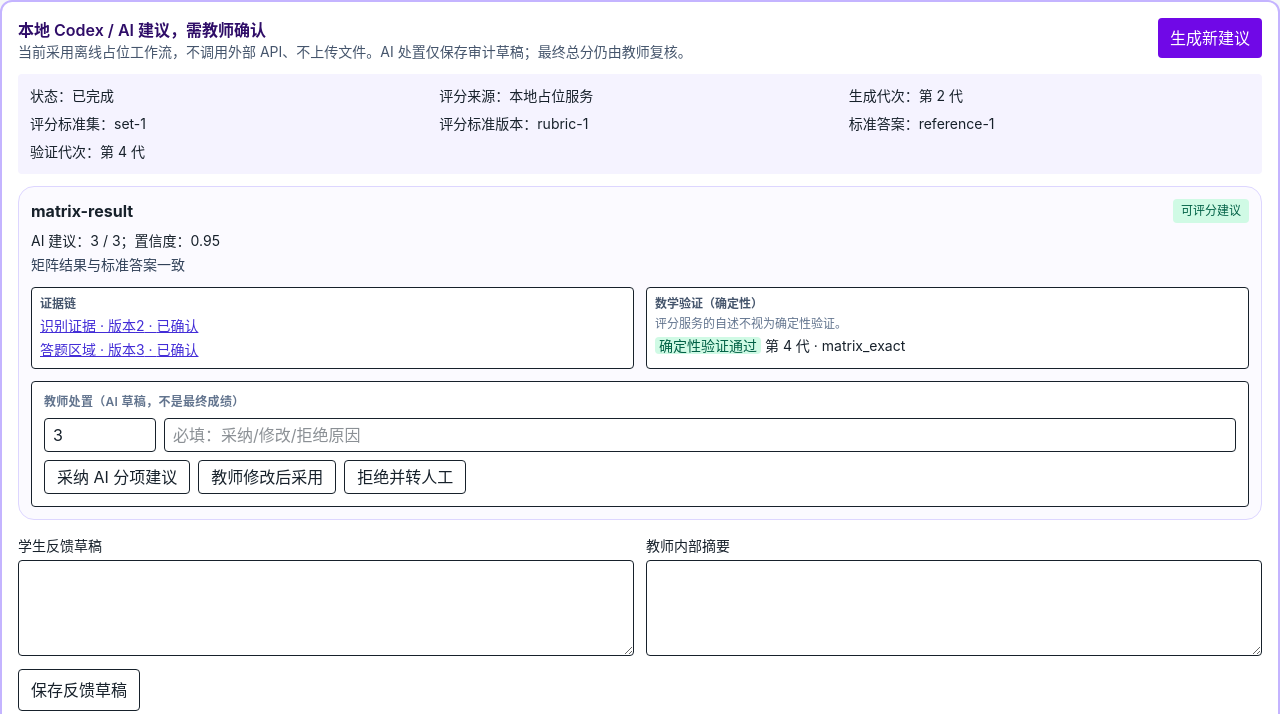
it: AIGradingReview › accepts only a current scored suggestion after an explicit reason
Expected: the button "采纳 AI 分项建议" is enabled, [44,460,190,494]
Type "教师核对原卷与验证结果后采纳" into the field named "matrix-result 修改原因".
click(700, 435); type("教师核对原卷与验证结果后采纳")  # box [164,418,1236,452]
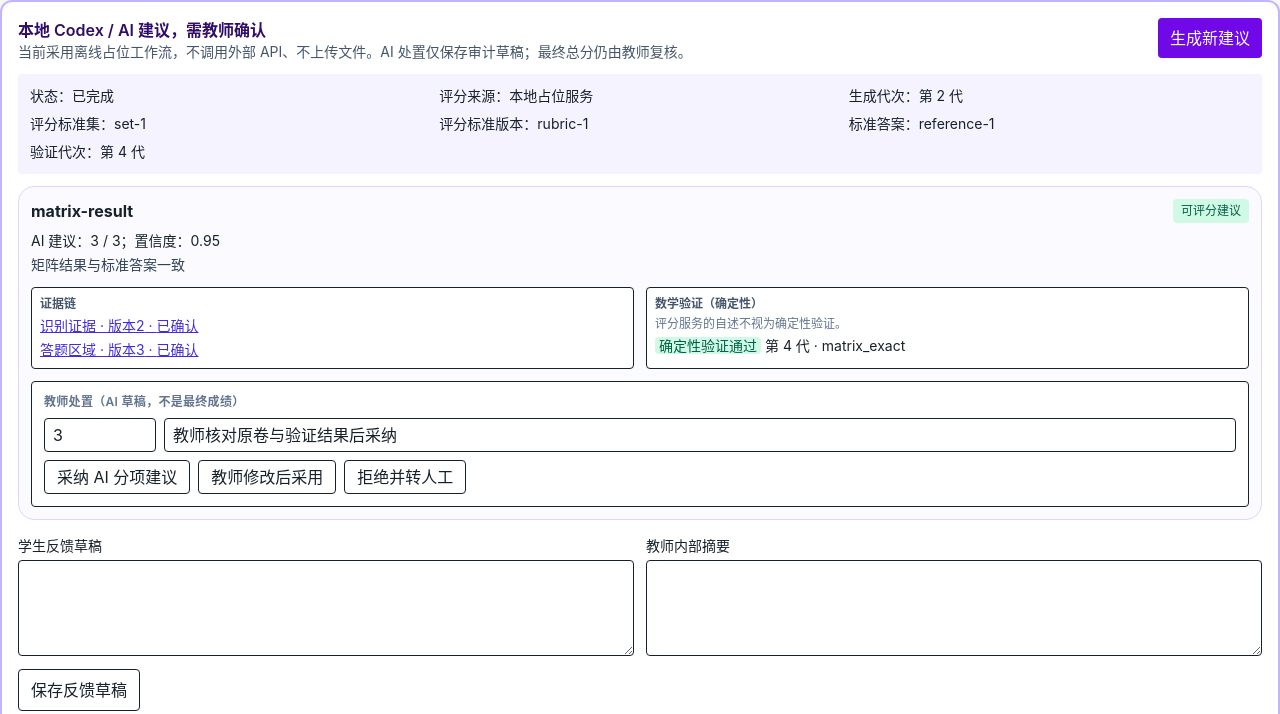
Click the button "采纳 AI 分项建议".
click(117, 477)  # box [44,460,190,494]
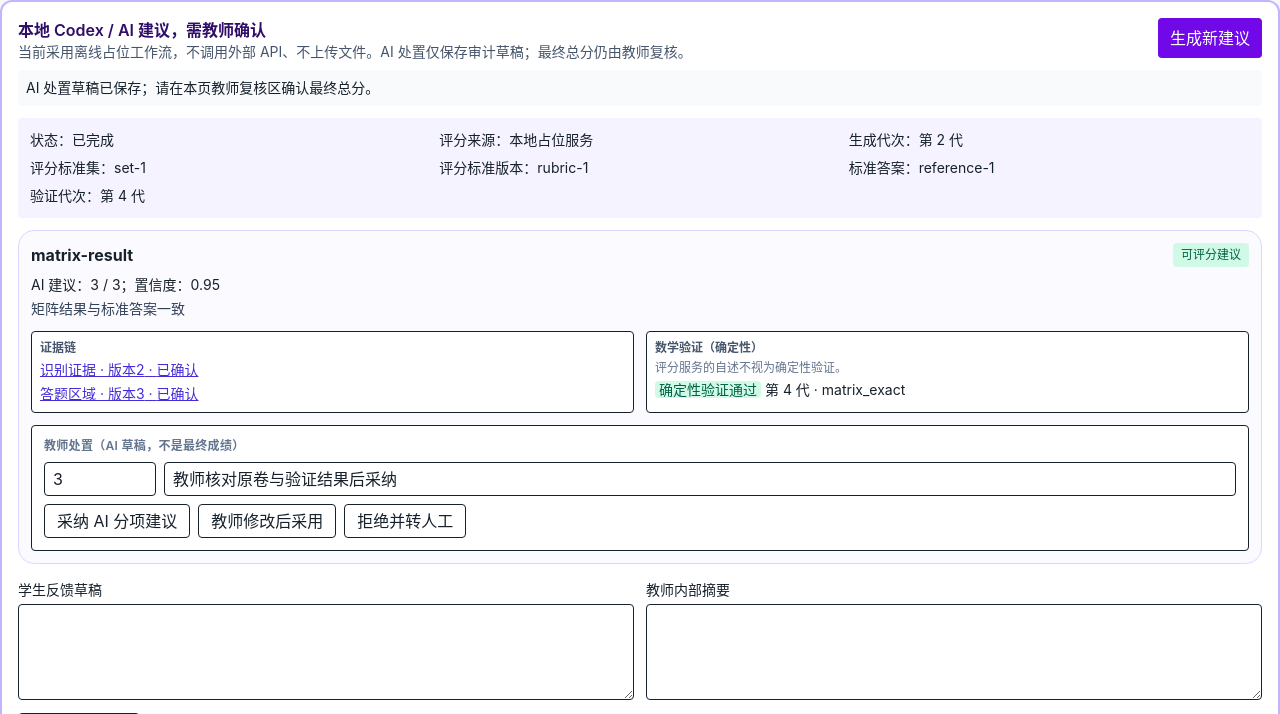
Now the message shows "最终总分", box [26,79,379,96]
